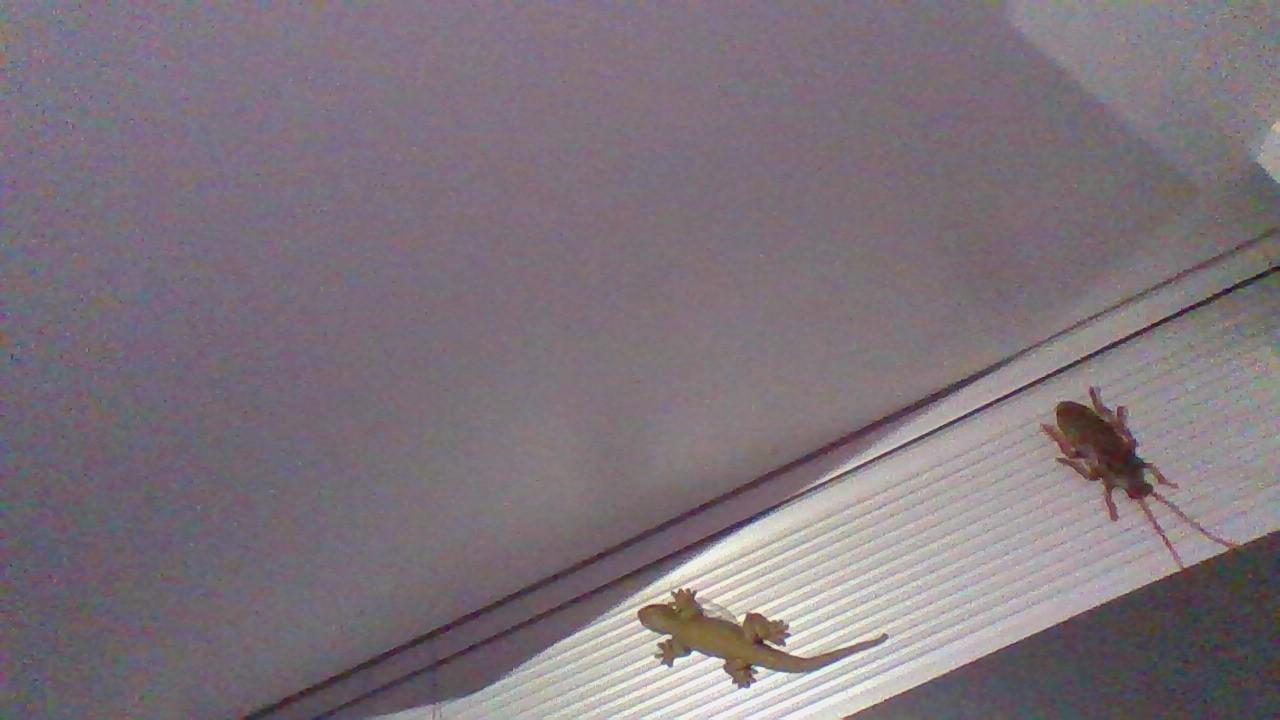cockroach: (1027, 376, 1255, 573)
lizard: (626, 575, 892, 707)
